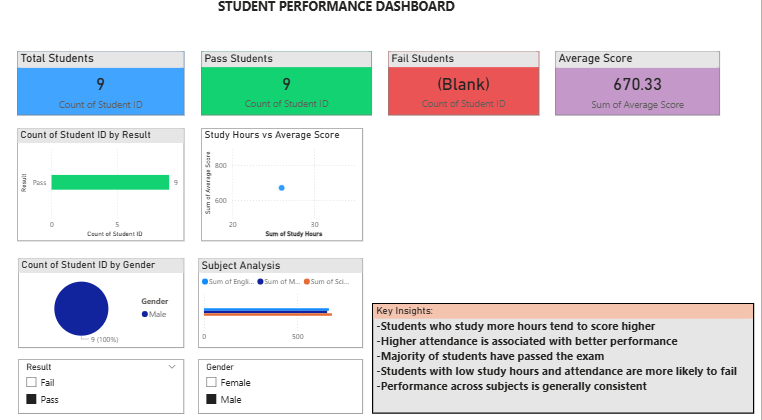

This screenshot's page, from the dashboard's own definition file:
{"tool":"powerbi","page":{"name":"Page 1","canvas":[1280,720],"ordinal":0},"visuals":[{"type":"card","title":"Total Students","fields":{"Values":["CountNonNull(cleaned_student_data.Student ID)"]},"box":[30.2,95.7,280.5,107.5],"z":0},{"type":"card","title":"Average Score","fields":{"Values":["Sum(cleaned_student_data.Average Score)"]},"box":[934,95.7,277.2,107.5],"z":1000},{"type":"card","title":"Pass Students","fields":{"Values":["CountNonNull(cleaned_student_data.Student ID)"]},"box":[339.3,95.7,287.2,107.5],"z":2000},{"type":"clusteredBarChart","fields":{"Category":["cleaned_student_data.Result"],"Y":["CountNonNull(cleaned_student_data.Student ID)"]},"box":[30.2,225.1,280.5,189.8],"z":3000},{"type":"scatterChart","title":"Study Hours vs Average Score","fields":{"X":["Sum(cleaned_student_data.Study Hours)"],"Y":["Sum(cleaned_student_data.Average Score)"]},"box":[339.3,225.1,272.1,189.8],"z":4000},{"type":"pieChart","fields":{"Category":["cleaned_student_data.Gender"],"Y":["CountNonNull(cleaned_student_data.Student ID)"]},"box":[31.9,443.5,278.8,151.2],"z":5000},{"type":"slicer","fields":{"Values":["cleaned_student_data.Gender"]},"box":[334.3,613.1,277.2,92.4],"z":6000},{"type":"slicer","fields":{"Values":["cleaned_student_data.Result"]},"box":[31.9,613.1,278.8,92.4],"z":7000},{"type":"card","title":"Fail Students","fields":{"Values":["CountNonNull(cleaned_student_data.Student ID)"]},"box":[653.4,95.7,253.6,107.5],"z":8000},{"type":"clusteredBarChart","title":"Subject Analysis","fields":{"Y":["Sum(cleaned_student_data.English Score)","Sum(cleaned_student_data.Math Score)","Sum(cleaned_student_data.Science Score)"]},"box":[334.3,443.5,277.2,151.2],"z":9000},{"type":"textbox","box":[362,0,556,82.3],"z":10000},{"type":"textbox","title":"Key Insights:","box":[626.6,519.1,641.7,186.5],"z":11000}]}

Visuals, with their boxes in screenshot pixels (x1, y1, x2, y2), scaled from the page's 1280x720 canvas onto the 762x420 screenshot:
"Total Students" card: region(18, 56, 185, 119)
"Average Score" card: region(556, 56, 721, 119)
"Pass Students" card: region(202, 56, 373, 119)
clusteredBarChart - cleaned_student_data.Result x CountNonNull(cleaned_student_data.Student ID): region(18, 131, 185, 242)
"Study Hours vs Average Score" scatterChart: region(202, 131, 364, 242)
pieChart - cleaned_student_data.Gender x CountNonNull(cleaned_student_data.Student ID): region(19, 259, 185, 347)
slicer - cleaned_student_data.Gender: region(199, 358, 364, 412)
slicer - cleaned_student_data.Result: region(19, 358, 185, 412)
"Fail Students" card: region(389, 56, 540, 119)
"Subject Analysis" clusteredBarChart: region(199, 259, 364, 347)
textbox: region(216, 0, 546, 48)
"Key Insights:" textbox: region(373, 303, 755, 412)
